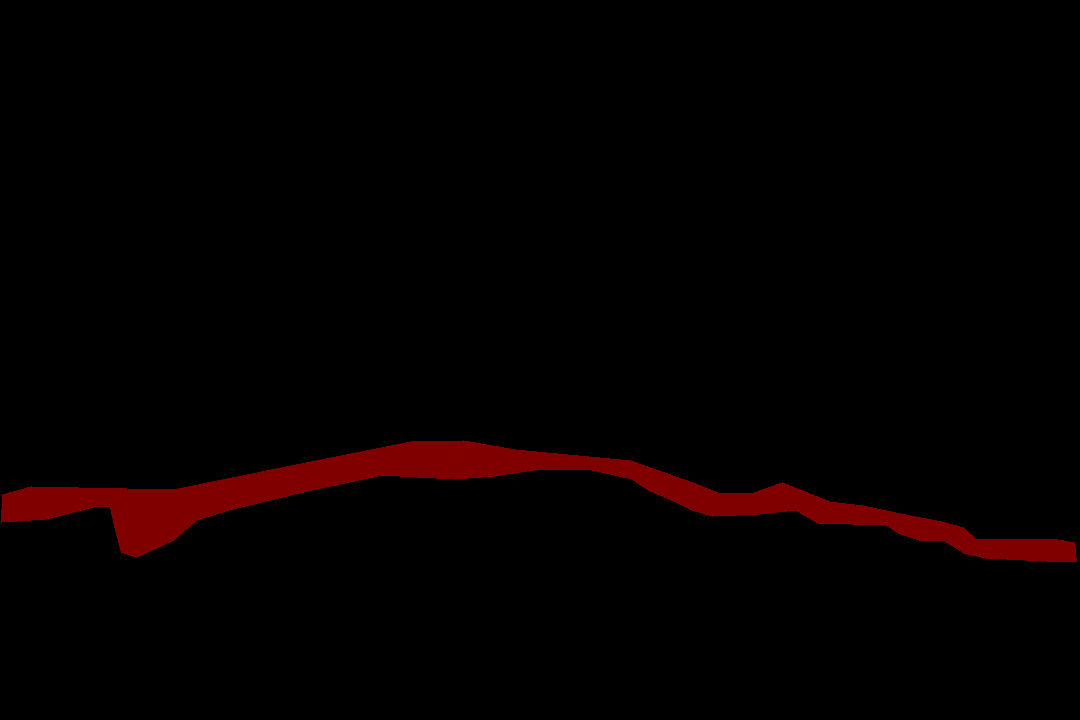fire: (1, 440, 1076, 561)
